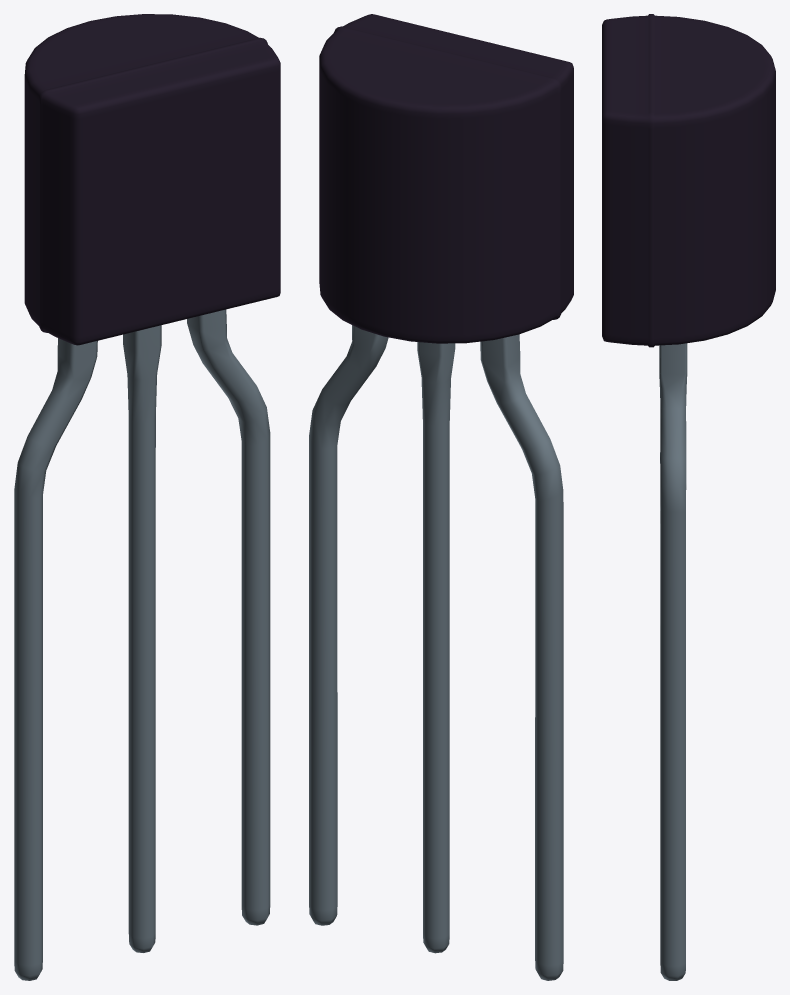
3 views of the same model, side by side, from view 1: azimuth 30°, elevation 25°; view 2: azimuth 150°, elevation 25°; view 3: azimuth 270°, elevation 25° (orthographic). The views are drawn at different scales.
Parts seen in each view (by area): view 1: body_001_mesh, pin_002_mesh, pin_001_mesh, pin_003_mesh; view 2: body_001_mesh, pin_002_mesh, pin_001_mesh, pin_003_mesh; view 3: body_001_mesh, pin_001_mesh.
Part boxes in pixels (box(x1,y1,x2,y2)): body_001_mesh: box(24, 14, 280, 345); pin_002_mesh: box(14, 338, 97, 980); pin_001_mesh: box(187, 309, 270, 925); pin_003_mesh: box(123, 325, 161, 952); body_001_mesh: box(319, 14, 573, 343); pin_002_mesh: box(480, 334, 563, 980); pin_001_mesh: box(309, 325, 388, 925); pin_003_mesh: box(417, 342, 455, 953); body_001_mesh: box(602, 14, 775, 347); pin_001_mesh: box(659, 343, 687, 980).
Bounding box in the file's own units: 2.47 × 8.45 × 1.54.
